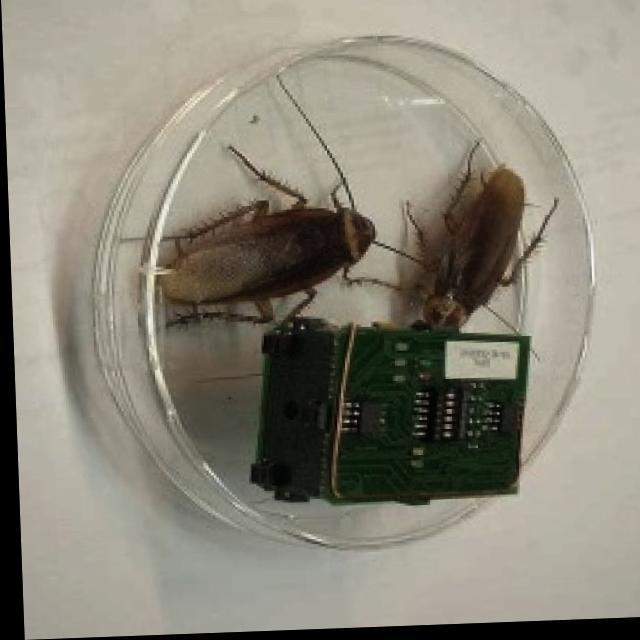cockroach: (130, 161, 374, 342), (403, 139, 572, 354)
